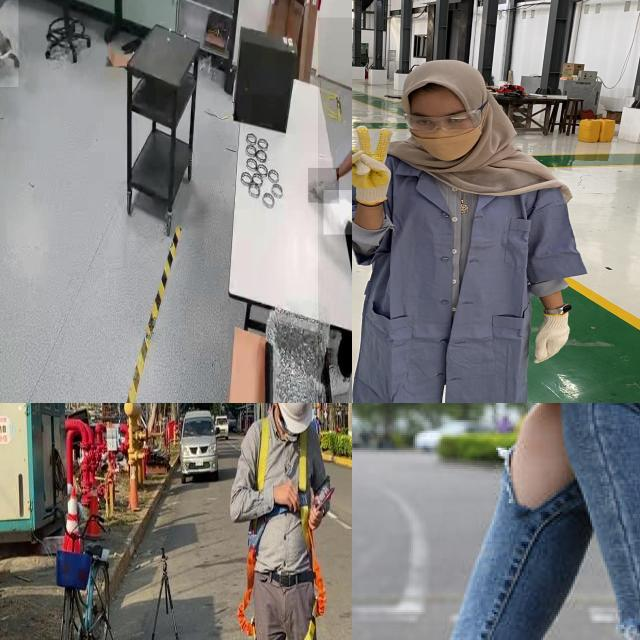Harness: (237, 430, 327, 640)
face_mask: (407, 107, 480, 166)
glasses: (401, 96, 491, 136)
hand_glove: (352, 125, 402, 197), (528, 312, 577, 362), (323, 190, 352, 234), (308, 168, 339, 203)
head_nohelmet: (402, 56, 486, 102)
person: (352, 56, 595, 403), (318, 17, 352, 403)
shoes: (0, 27, 12, 62)
